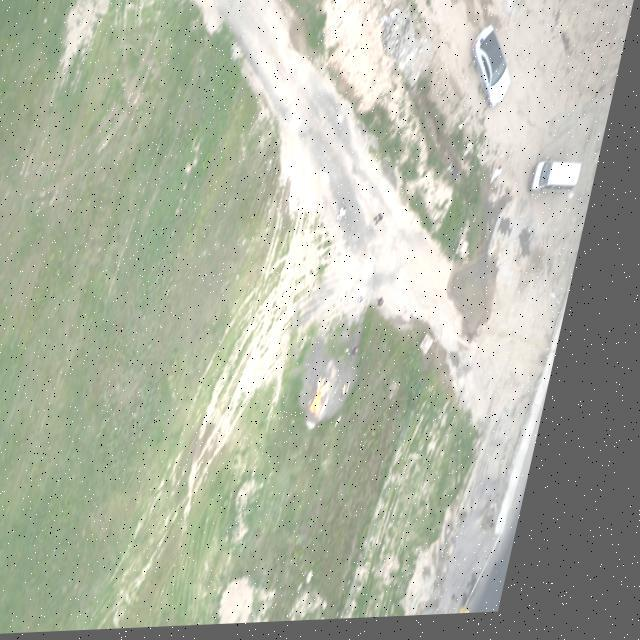Fire: (308, 362, 367, 433)
